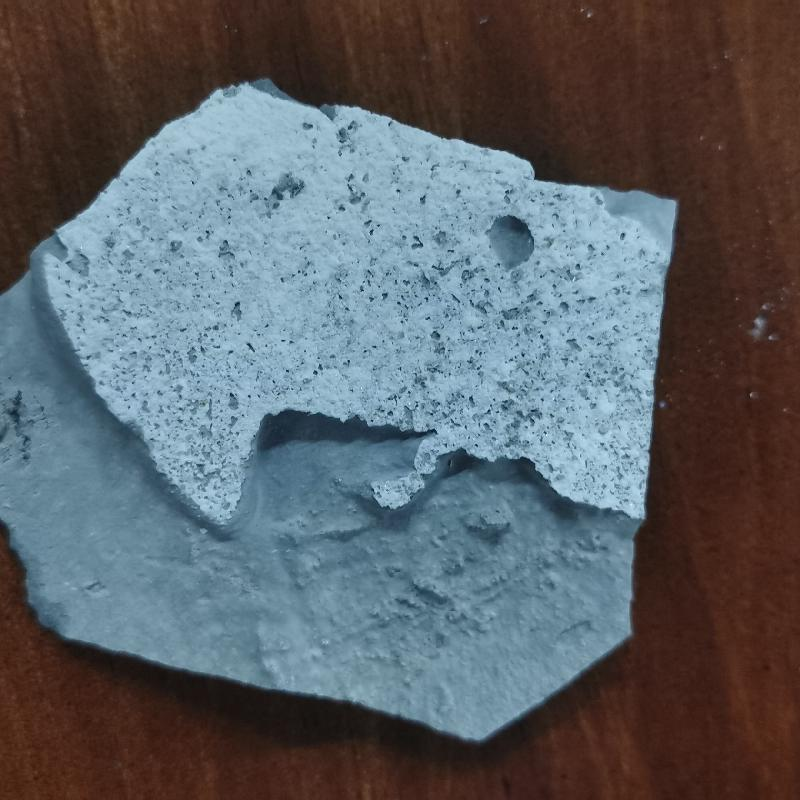tile: (3, 83, 681, 741)
